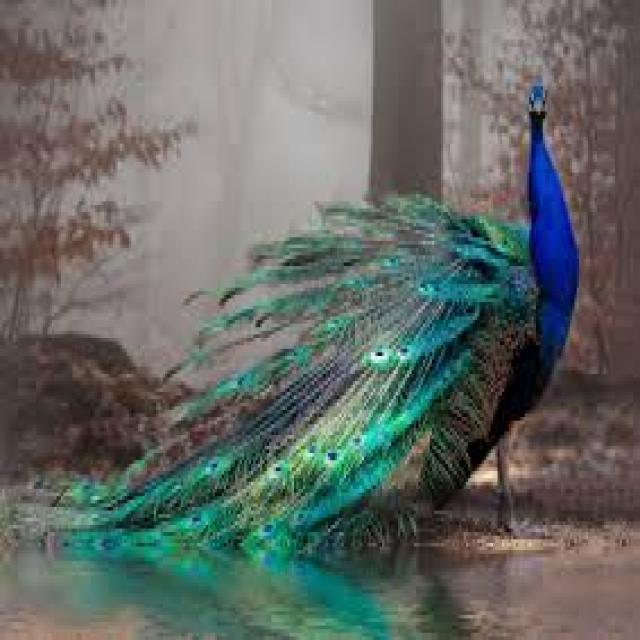peacock: (221, 75, 594, 536)
